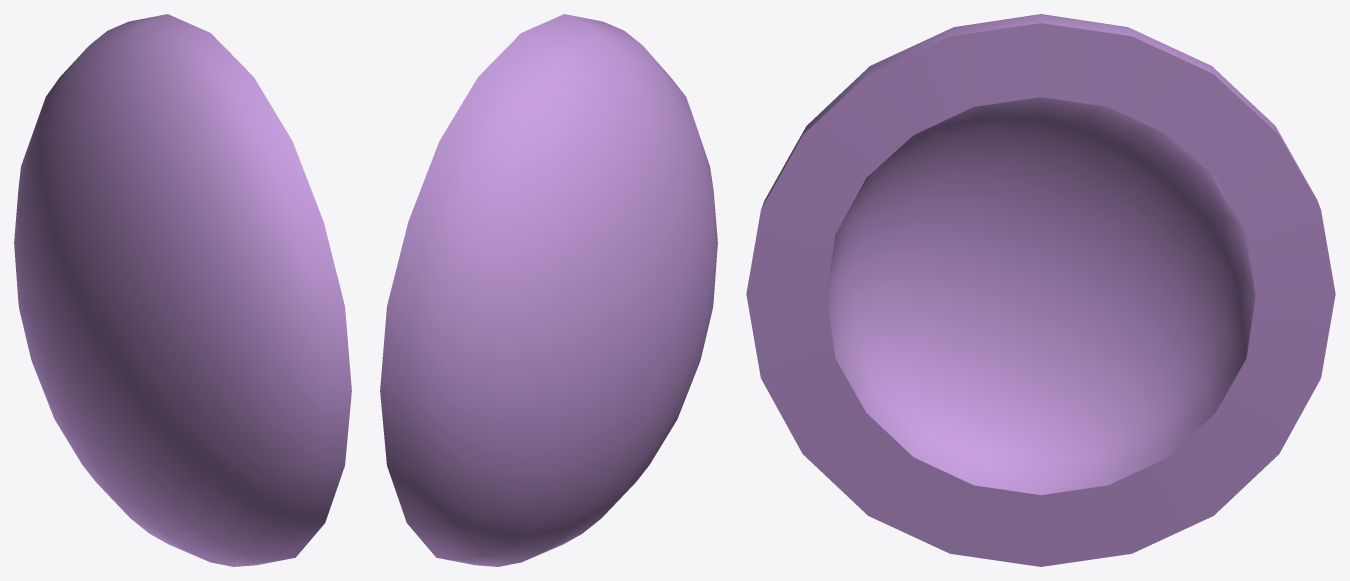
File: unsorted_06.glb
3 renders of one model, left to right at view 1: azimuth 30°, elevation 25°; view 2: azimuth 150°, elevation 25°; view 3: azimuth 270°, elevation 25°, orthographic. The views are drawn at different scales.
Visible parts, largest first — view 1: clearglass_27; view 2: clearglass_27; view 3: clearglass_27.
Part boxes in pixels (<box>): clearglass_27: <box>14,14,351,566</box>; clearglass_27: <box>380,14,717,566</box>; clearglass_27: <box>746,14,1335,566</box>.
Bounding box in the file's own units: 0.00745 × 0.0253 × 0.0249.
